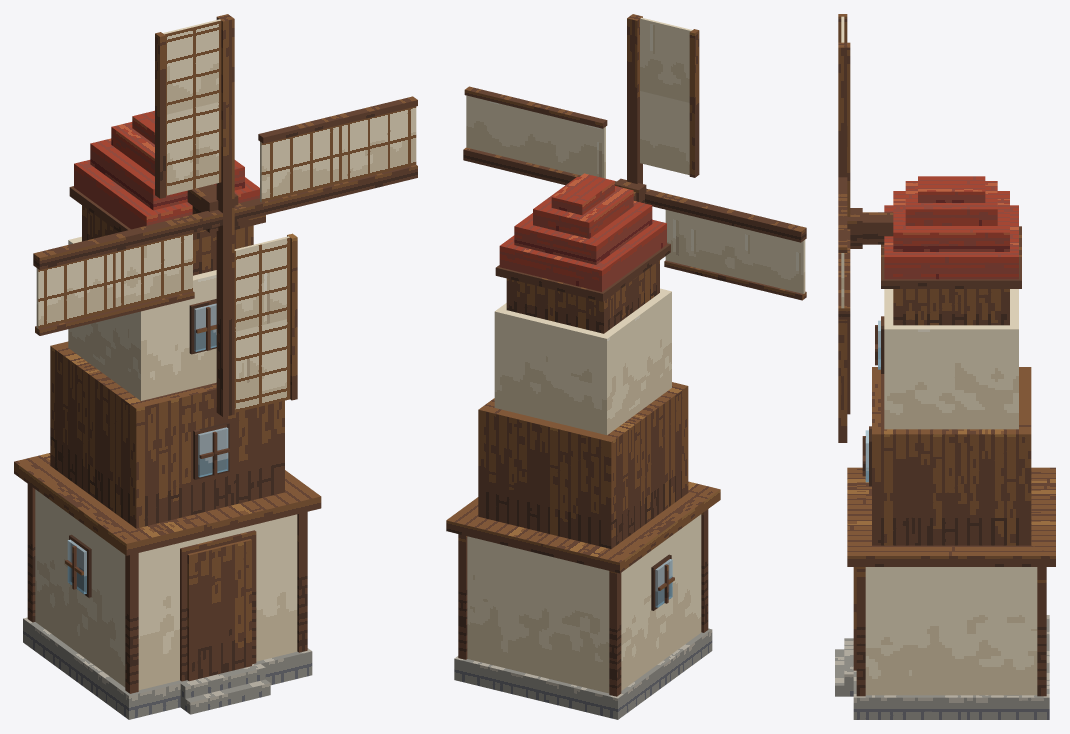
The model's file is windmill.glb.
3 views of the same model, side by side, from view 1: azimuth 30°, elevation 25°; view 2: azimuth 150°, elevation 25°; view 3: azimuth 270°, elevation 25° (orthographic). The views are drawn at different scales.
Visible parts, largest first — view 1: root, sails_bone; view 2: root, sails_bone; view 3: root, sails_bone.
Part boxes in pixels (x1=…): root: x1=14, y1=110, x2=321, y2=719; sails_bone: x1=33, y1=14, x2=417, y2=417; root: x1=446, y1=173, x2=720, y2=719; sails_bone: x1=463, y1=14, x2=806, y2=300; root: x1=835, y1=176, x2=1055, y2=719; sails_bone: x1=838, y1=14, x2=862, y2=442.
Bounding box in the file's own units: 8.25 × 14.25 × 4.5.
Materials: 2 (2 with a texture image).
